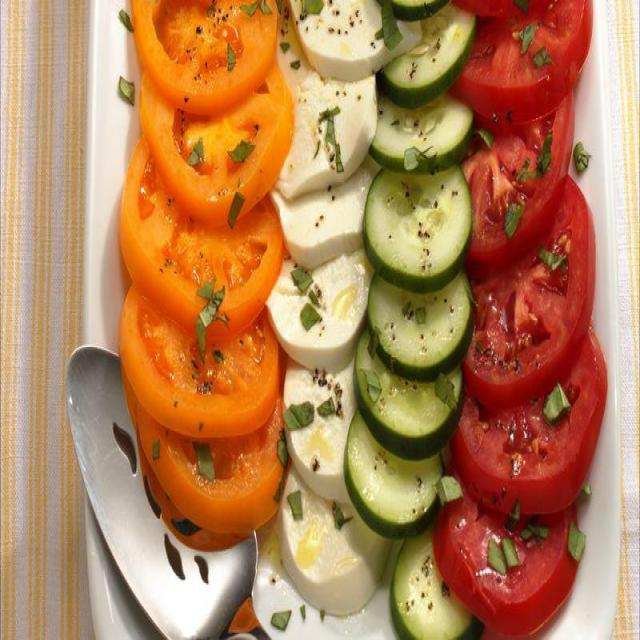Tomato: (434, 474, 592, 625), (119, 184, 278, 315), (121, 297, 286, 422), (461, 230, 593, 380), (462, 371, 598, 506), (131, 82, 295, 192), (126, 421, 294, 513), (128, 0, 284, 97), (465, 0, 605, 104), (467, 126, 588, 241)
